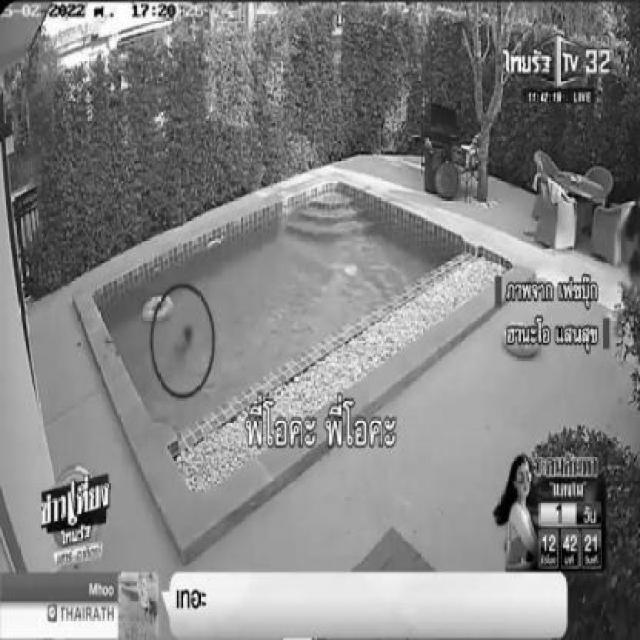drowning: (161, 312, 197, 376)
